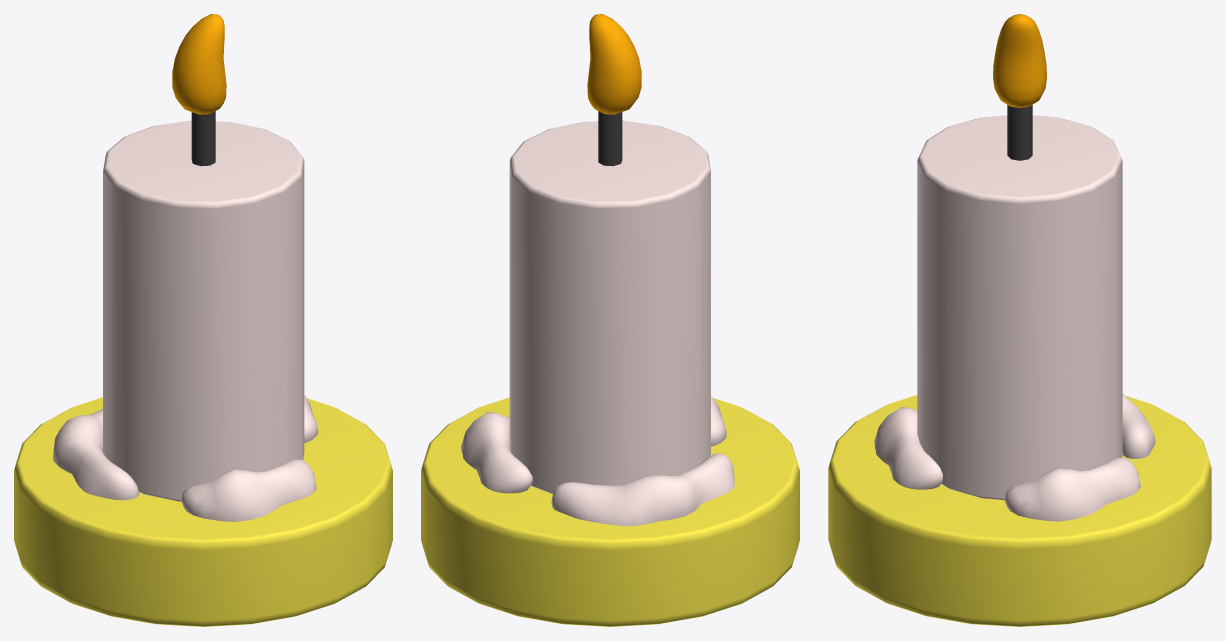
The model's file is Town_17_Candle_1.glb.
3 renders of one model, left to right at view 1: azimuth 30°, elevation 25°; view 2: azimuth 150°, elevation 25°; view 3: azimuth 270°, elevation 25°, orthographic.
Visible parts, largest first — view 1: Town_17_Candle_1; view 2: Town_17_Candle_1; view 3: Town_17_Candle_1.
Part boxes in pixels (left/top/right/bottom): Town_17_Candle_1: left=14, top=14, right=392, bottom=626; Town_17_Candle_1: left=421, top=14, right=799, bottom=626; Town_17_Candle_1: left=828, top=14, right=1211, bottom=626.
Size of the model in its own units: 0.2379 by 0.3687 by 0.2379.
1 material, 1 textured.
